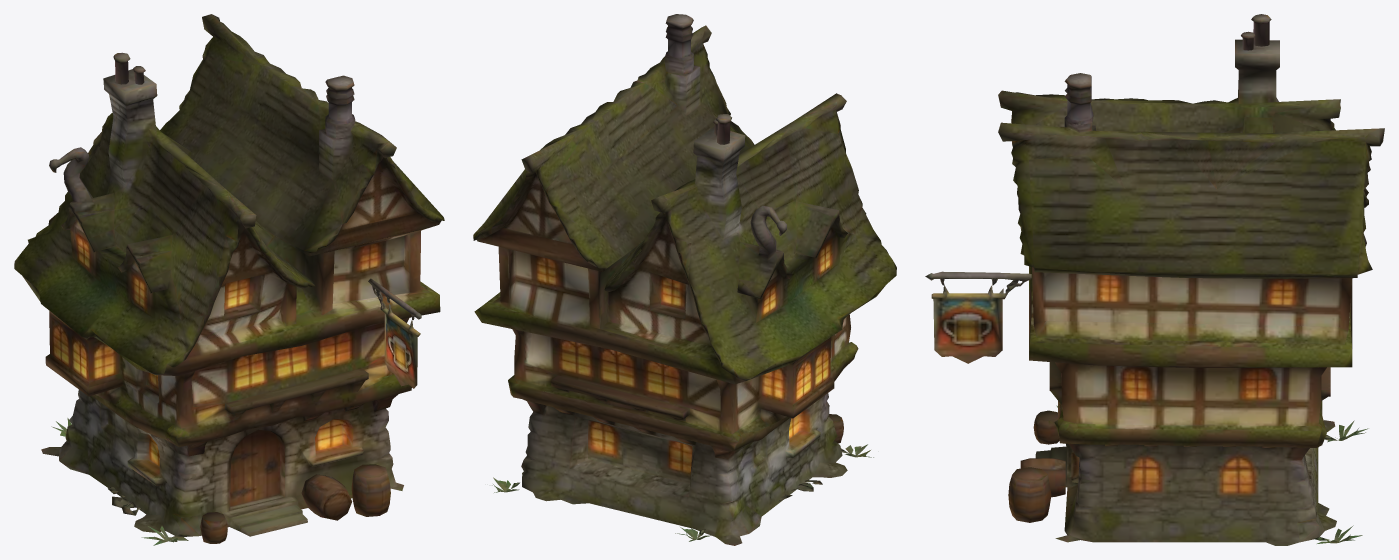
Rendered from civic_inn_tavern.glb.
3 renders of one model, left to right at view 1: azimuth 30°, elevation 25°; view 2: azimuth 150°, elevation 25°; view 3: azimuth 270°, elevation 25°, orthographic. The views are drawn at different scales.
Parts seen in each view (by area): view 1: tripo_node_403ad779-5301-4948-b395-7e0b6b6e5426; view 2: tripo_node_403ad779-5301-4948-b395-7e0b6b6e5426; view 3: tripo_node_403ad779-5301-4948-b395-7e0b6b6e5426.
Boxes of the visible parts, <box> form: tripo_node_403ad779-5301-4948-b395-7e0b6b6e5426: <box>14,14,444,545</box>; tripo_node_403ad779-5301-4948-b395-7e0b6b6e5426: <box>473,14,896,545</box>; tripo_node_403ad779-5301-4948-b395-7e0b6b6e5426: <box>925,14,1384,545</box>.
Size of the model in its own units: 9.9 by 13 by 12.49.
1 material, 1 textured.
